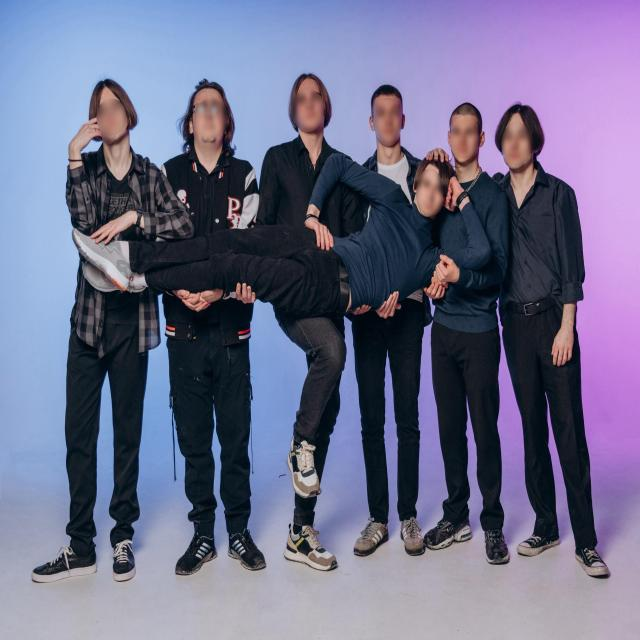Person: (20, 74, 185, 595), (70, 159, 487, 314), (254, 68, 360, 582), (508, 90, 614, 592), (163, 72, 260, 587), (342, 75, 431, 583), (423, 78, 503, 577)
